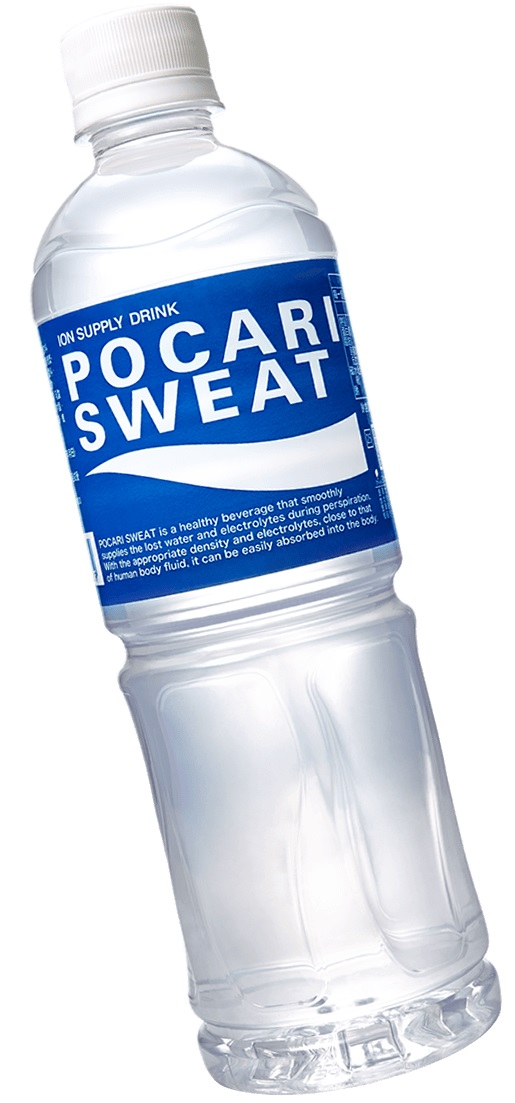POCARI SWEAT: (14, 1, 505, 1096)
